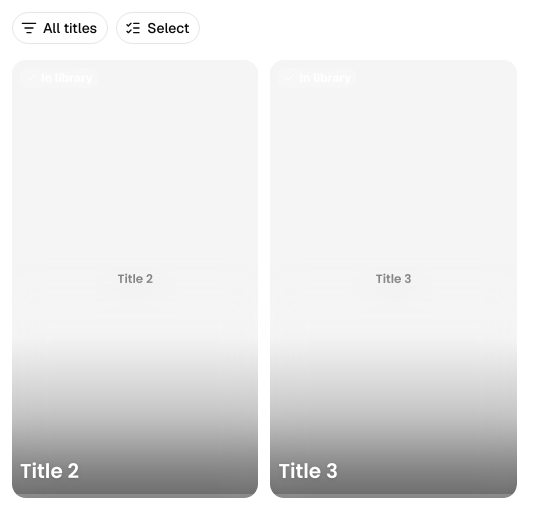
Scenario: chips are derived from the titles on the page › offers only the sources present, plus No source when one is missing
Click the button with aria-label "Filters:" at (60, 28), box left=12, top=12, right=108, bottom=44
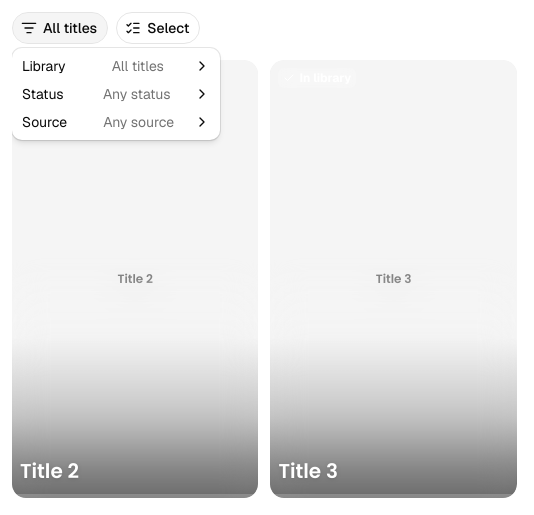
Click the menu item "Source Any source" at (116, 122), box left=16, top=108, right=216, bottom=136
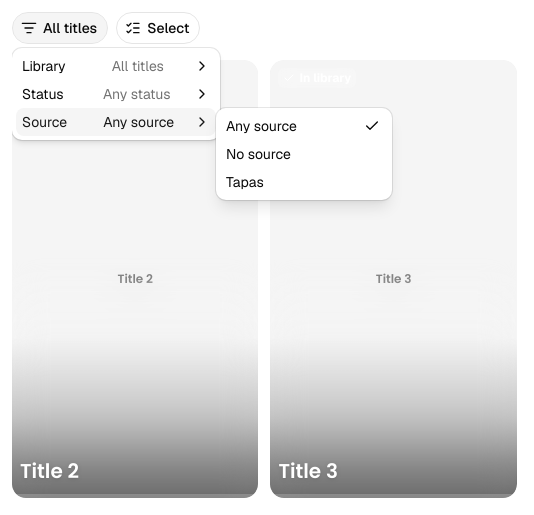
Result: the menu item "Tapas" is shown at left=226, top=173, right=264, bottom=191
Result: the menu item "No source" is shown at left=226, top=145, right=291, bottom=163
